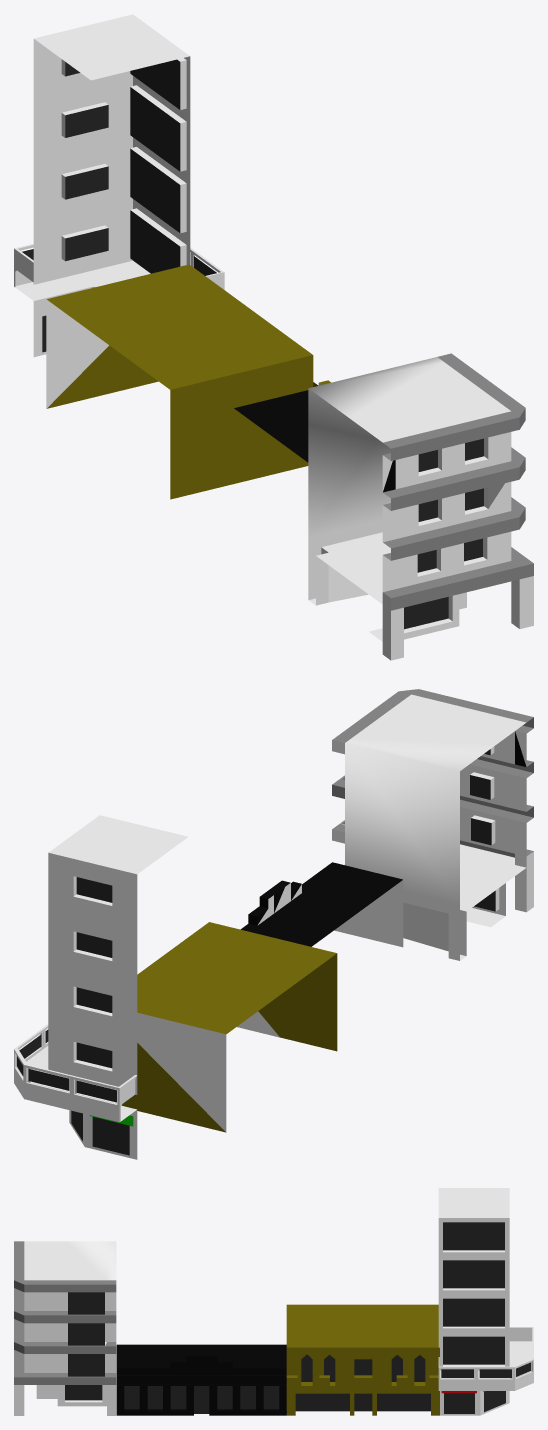
File: Edificio-5-Derecha.fbx
3 views of the same model, one above another, from view 1: azimuth 30°, elevation 25°; view 2: azimuth 150°, elevation 25°; view 3: azimuth 270°, elevation 25° (orthographic). The views are drawn at different scales.
Visible parts, largest first — view 1: Plane3; view 2: Plane3; view 3: Plane3.
Boxes of the visible parts, x1,y1,x2,y2 form: Plane3: (14,14,533,660); Plane3: (14,689,533,1159); Plane3: (14,1188,533,1415).
Size of the model in its own units: 2227 by 3836 by 9156.
